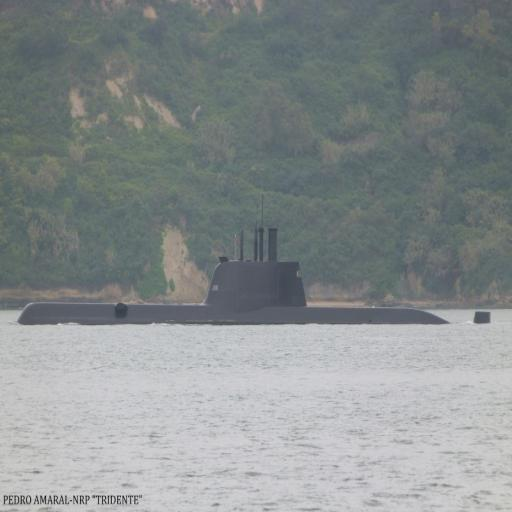submarine: (19, 228, 493, 327)
